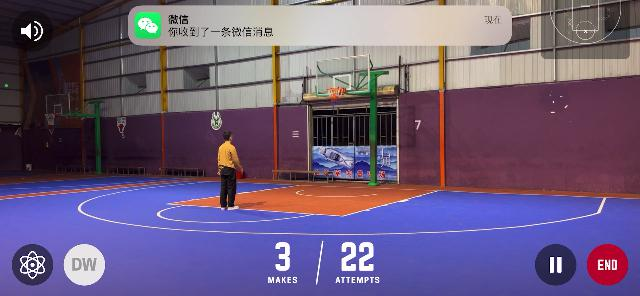basket: (326, 88, 346, 105)
goal: (330, 92, 338, 100)
